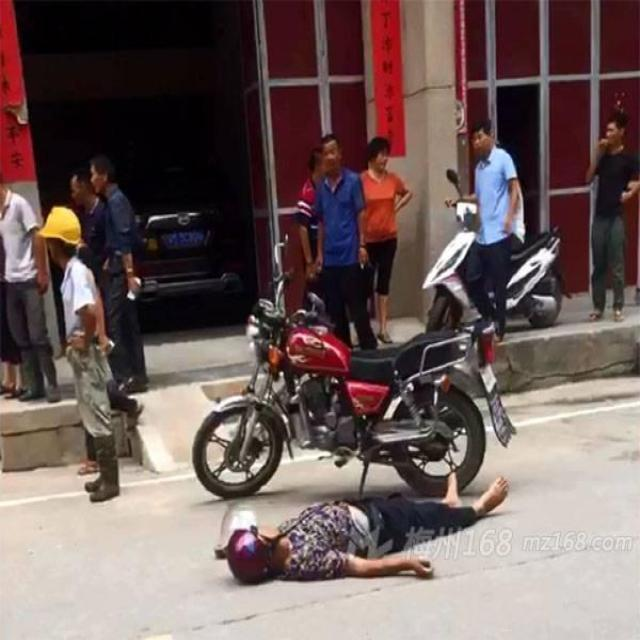fall: (223, 456, 519, 586)
nonfall: (37, 204, 122, 506), (309, 133, 376, 348), (89, 160, 148, 390), (0, 183, 57, 402), (468, 114, 521, 338), (586, 111, 640, 320), (365, 135, 408, 341)
